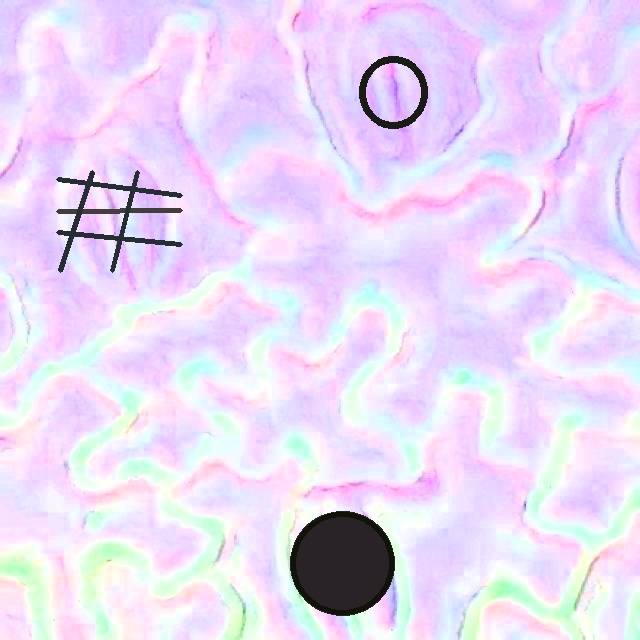open: (57, 170, 181, 271), (289, 510, 394, 616), (358, 56, 428, 127)
